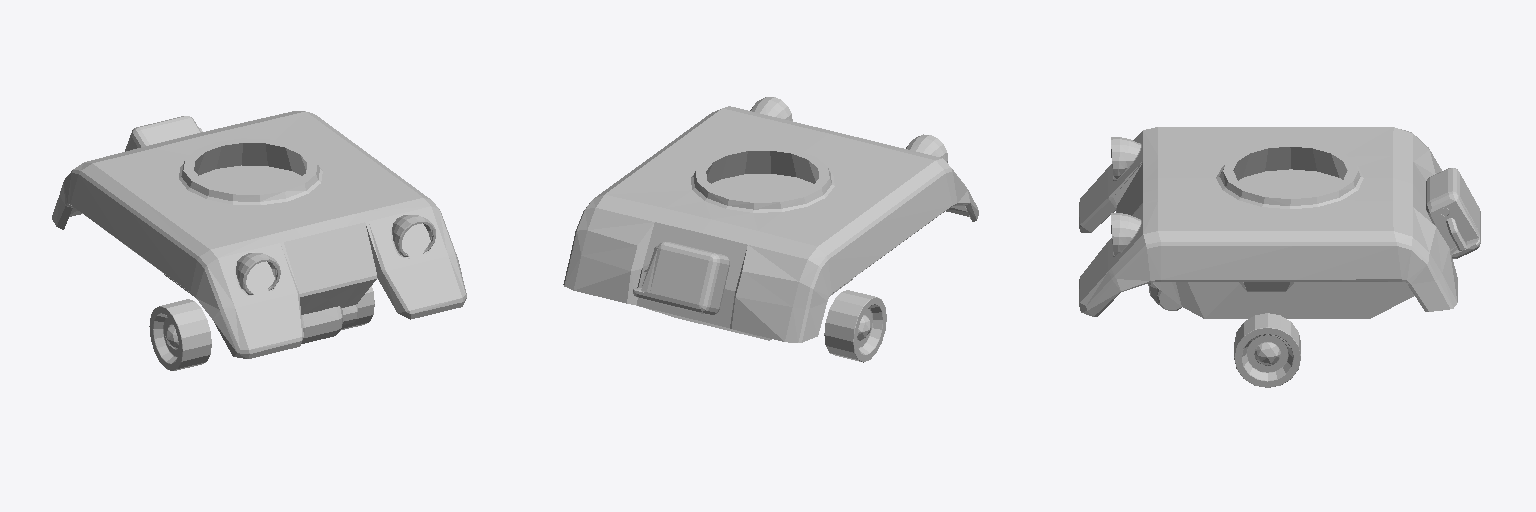
File: TankChassis.obj
The picture shows the model from 3 angles: view 1: azimuth 30°, elevation 25°; view 2: azimuth 150°, elevation 25°; view 3: azimuth 270°, elevation 25°; orthographic projection.
Visible parts, largest first — view 1: TankChassis_Untitled.009; view 2: TankChassis_Untitled.009; view 3: TankChassis_Untitled.009.
Boxes of the visible parts, x1=… form: TankChassis_Untitled.009: x1=52, y1=111, x2=466, y2=370; TankChassis_Untitled.009: x1=563, y1=97, x2=978, y2=362; TankChassis_Untitled.009: x1=1079, y1=127, x2=1480, y2=387.
Size of the model in its own units: 1.7 by 1.11 by 2.37.